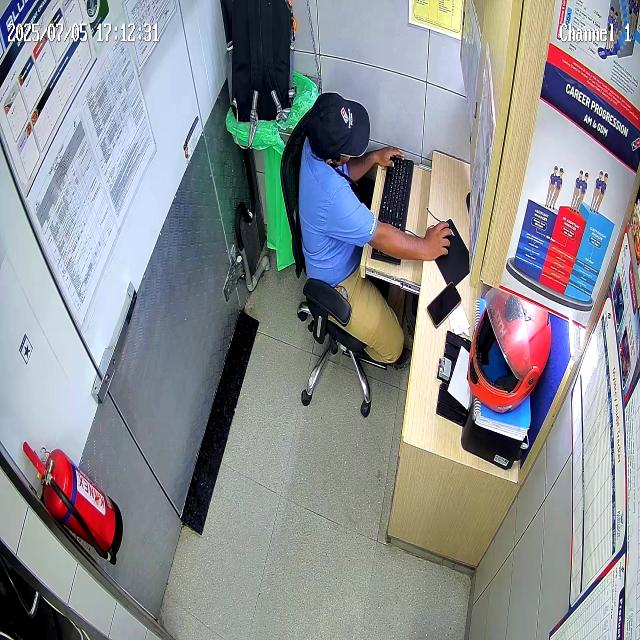helmet: (467, 285, 552, 414)
no_helmet: (309, 91, 370, 167)
